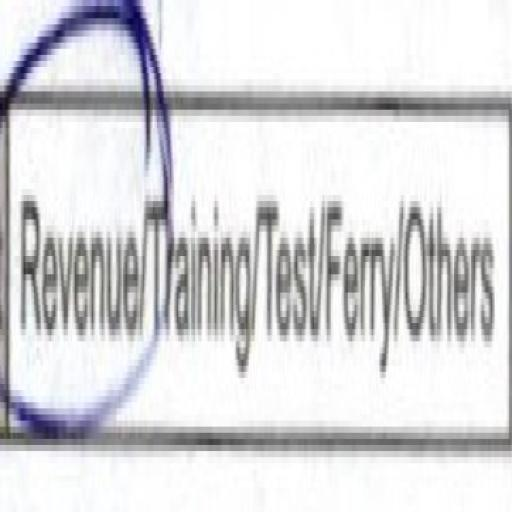check: (0, 0, 150, 488)
